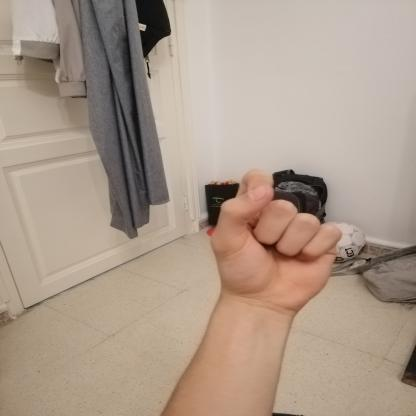FAA: (195, 158, 357, 320)
